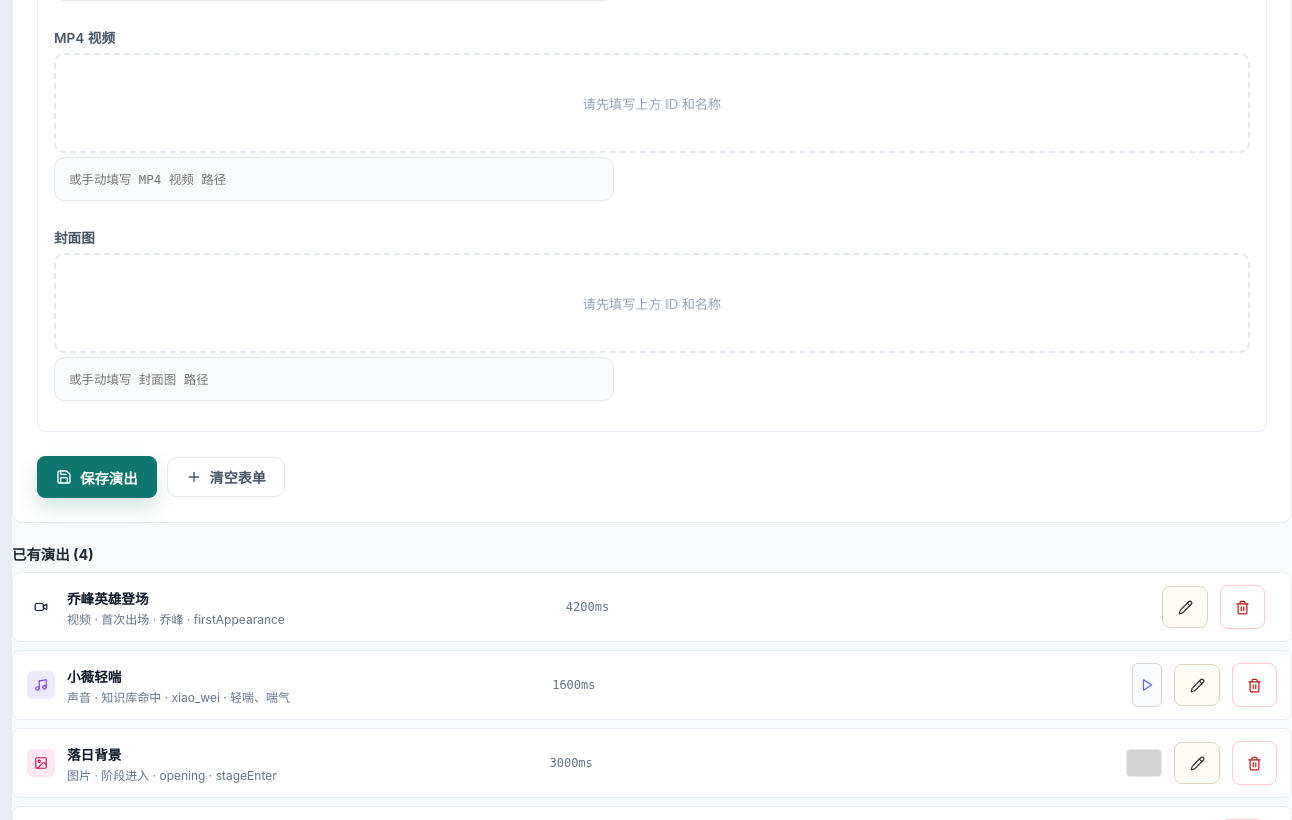
PerformanceConfigPanel › edit › populates form when edit button is clicked
The width and height of the screenshot is (1292, 820).
(page scrolled)
Click the button named "编辑演出" in the row of "4200": (1185, 607) [1162,586,1208,628]
(page scrolled)
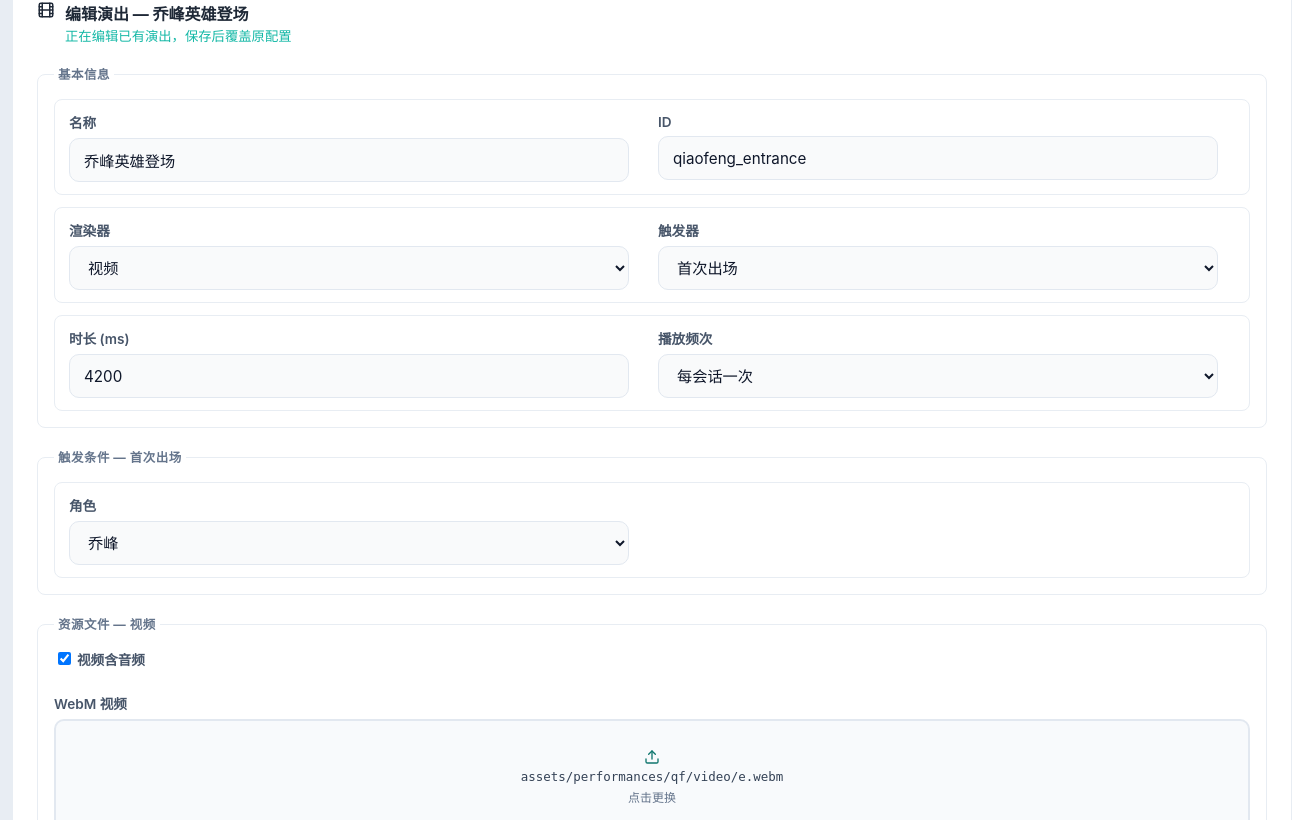
Expected: the field with placeholder "飞龙在天" holds "乔峰英雄登场", [69,138,629,182]
Expected: the number field showing "4200" is shown, [69,354,629,398]
